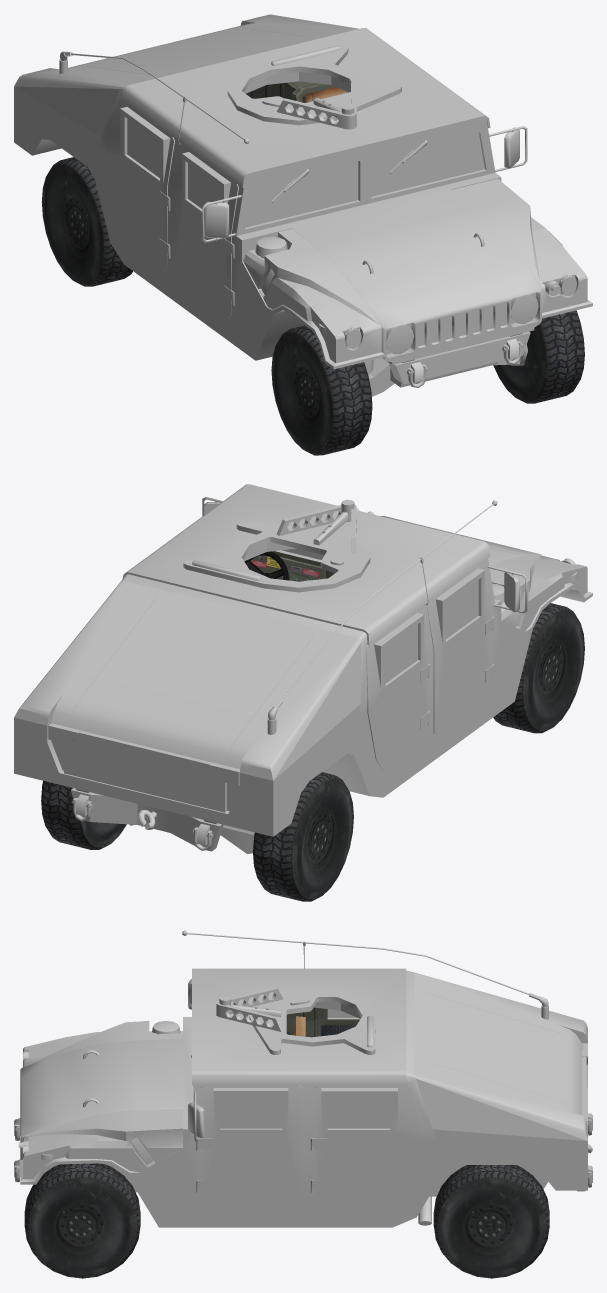
Rendered from Car_8.FBX.
3 views of the same model, one above another, from view 1: azimuth 30°, elevation 25°; view 2: azimuth 150°, elevation 25°; view 3: azimuth 270°, elevation 25° (orthographic). The views are drawn at different scales.
Visible parts, largest first — view 1: HMMWV, Object02, Object16, Object11, Object10, Object04, Door_Back2, Object07, Glass_Fron, Object06, Object08; view 2: HMMWV, Door_Back2, Object16, Door_Back1, Object10, Object02, Object11, Object01, Object08, Object06; view 3: HMMWV, Object04, Object01, Door_Back2, Object12, Object13, Object09, Object05, Object11.
Part boxes in pixels (left/top/right/bottom): HMMWV: left=14, top=14, right=592, bottom=396; Object02: left=271, top=325, right=372, bottom=455; Object16: left=41, top=157, right=132, bottom=286; Object11: left=107, top=100, right=174, bottom=270; Object10: left=173, top=145, right=238, bottom=317; Object04: left=493, top=310, right=584, bottom=403; Door_Back2: left=76, top=27, right=312, bottom=75; Object07: left=245, top=161, right=358, bottom=227; Glass_Fron: left=371, top=132, right=484, bottom=196; Object06: left=127, top=119, right=159, bottom=177; Object08: left=188, top=163, right=220, bottom=208; HMMWV: left=14, top=484, right=592, bottom=853; Door_Back2: left=68, top=598, right=313, bottom=765; Object16: left=253, top=772, right=353, bottom=901; Door_Back1: left=48, top=723, right=239, bottom=812; Object10: left=426, top=562, right=494, bottom=736; Object02: left=493, top=603, right=584, bottom=733; Object11: left=366, top=609, right=429, bottom=772; Object01: left=41, top=781, right=126, bottom=849; Object08: left=446, top=580, right=478, bottom=638; Object06: left=385, top=624, right=417, bottom=683; HMMWV: left=14, top=930, right=592, bottom=1227; Object04: left=24, top=1163, right=140, bottom=1278; Object01: left=433, top=1165, right=549, bottom=1278; Door_Back2: left=426, top=993, right=581, bottom=1115; Object12: left=196, top=1085, right=303, bottom=1207; Object13: left=310, top=1085, right=420, bottom=1207; Object09: left=327, top=1095, right=390, bottom=1128; Object05: left=220, top=1095, right=282, bottom=1128; Object11: left=314, top=1007, right=360, bottom=1036.
Size of the model in its own units: 26.95 by 21.49 by 46.82.
